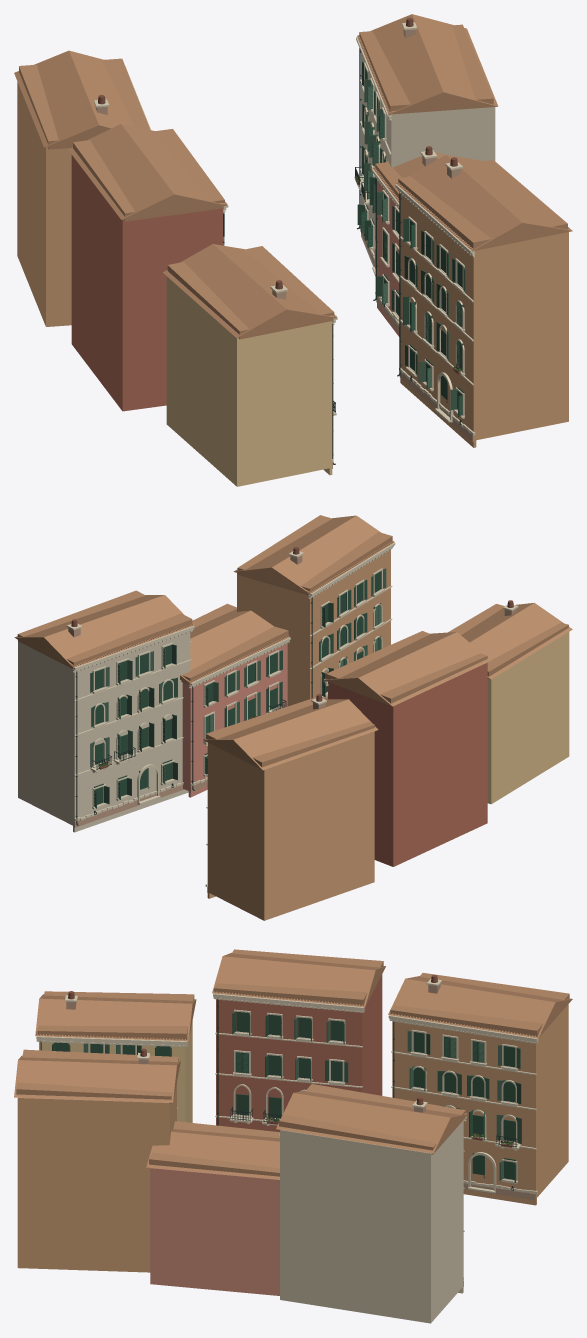
The model's file is canal-04.glb.
The picture shows the model from 3 angles, top to bottom: view 1: azimuth 30°, elevation 25°; view 2: azimuth 150°, elevation 25°; view 3: azimuth 270°, elevation 25°; orthographic projection. The views are drawn at different scales.
Parts seen in each view (by area): view 1: Main elevations / kit:roof, Main elevations / kit:walls:2, Distant elevations / kit:walls:0, Distant elevations / kit:roof, Main elevations / kit:walls:0, Main elevations / kit:walls:4, Distant elevations / kit:walls:4, Main elevations / kit:stone, Main elevations / kit:walls:3, Main elevations / kit:green, Main elevations / kit:greenDark, Distant elevations / kit:greenDark (+5 smaller); view 2: Main elevations / kit:roof, Main elevations / kit:walls:0, Main elevations / kit:walls:3, Main elevations / kit:walls:4, Distant elevations / kit:roof, Distant elevations / kit:walls:0, Main elevations / kit:walls:2, Main elevations / kit:stone, Distant elevations / kit:greenDark, Distant elevations / kit:walls:1, Distant elevations / kit:walls:4, Distant elevations / kit:walls:3 (+6 smaller); view 3: Main elevations / kit:walls:0, Main elevations / kit:walls:3, Main elevations / kit:roof, Distant elevations / kit:roof, Main elevations / kit:walls:1, Main elevations / kit:walls:4, Main elevations / kit:stone, Distant elevations / kit:walls:0, Distant elevations / kit:greenDark, Distant elevations / kit:walls:4, Main elevations / kit:green, Main elevations / kit:greenDark (+5 smaller).
Boxes of the visible parts, bbox=[...] form: Main elevations / kit:roof: bbox=[14, 14, 572, 337]; Main elevations / kit:walls:2: bbox=[166, 276, 332, 486]; Distant elevations / kit:walls:0: bbox=[402, 195, 565, 440]; Distant elevations / kit:roof: bbox=[19, 24, 567, 339]; Main elevations / kit:walls:0: bbox=[17, 82, 568, 447]; Main elevations / kit:walls:4: bbox=[71, 155, 222, 411]; Distant elevations / kit:walls:4: bbox=[125, 209, 220, 410]; Main elevations / kit:stone: bbox=[94, 22, 475, 461]; Main elevations / kit:walls:3: bbox=[361, 53, 495, 266]; Main elevations / kit:green: bbox=[362, 72, 465, 410]; Main elevations / kit:greenDark: bbox=[223, 61, 463, 416]; Distant elevations / kit:greenDark: bbox=[365, 68, 464, 409]; Main elevations / kit:roof: bbox=[14, 515, 572, 770]; Main elevations / kit:walls:0: bbox=[207, 572, 379, 920]; Main elevations / kit:walls:3: bbox=[18, 633, 188, 832]; Main elevations / kit:walls:4: bbox=[328, 662, 487, 866]; Distant elevations / kit:roof: bbox=[17, 515, 568, 767]; Distant elevations / kit:walls:0: bbox=[209, 550, 390, 901]; Main elevations / kit:walls:2: bbox=[487, 632, 569, 804]; Main elevations / kit:stone: bbox=[66, 543, 518, 886]; Distant elevations / kit:greenDark: bbox=[94, 571, 380, 804]; Distant elevations / kit:walls:1: bbox=[188, 643, 287, 790]; Distant elevations / kit:walls:4: bbox=[328, 682, 391, 865]; Distant elevations / kit:walls:3: bbox=[19, 632, 190, 825]; Main elevations / kit:walls:0: bbox=[17, 1004, 568, 1272]; Main elevations / kit:walls:3: bbox=[280, 1120, 463, 1323]; Main elevations / kit:roof: bbox=[14, 952, 572, 1179]; Distant elevations / kit:roof: bbox=[16, 949, 569, 1176]; Main elevations / kit:walls:1: bbox=[150, 1168, 279, 1295]; Main elevations / kit:walls:4: bbox=[216, 974, 382, 1131]; Main elevations / kit:stone: bbox=[36, 979, 538, 1279]; Distant elevations / kit:walls:0: bbox=[170, 1021, 546, 1197]; Distant elevations / kit:greenDark: bbox=[55, 1011, 515, 1179]; Distant elevations / kit:walls:4: bbox=[235, 976, 381, 1118]; Main elevations / kit:green: bbox=[68, 1017, 521, 1180]; Main elevations / kit:greenDark: bbox=[52, 1011, 521, 1182].
Bounding box in the file's own units: 40.29 × 19.31 × 47.64.
